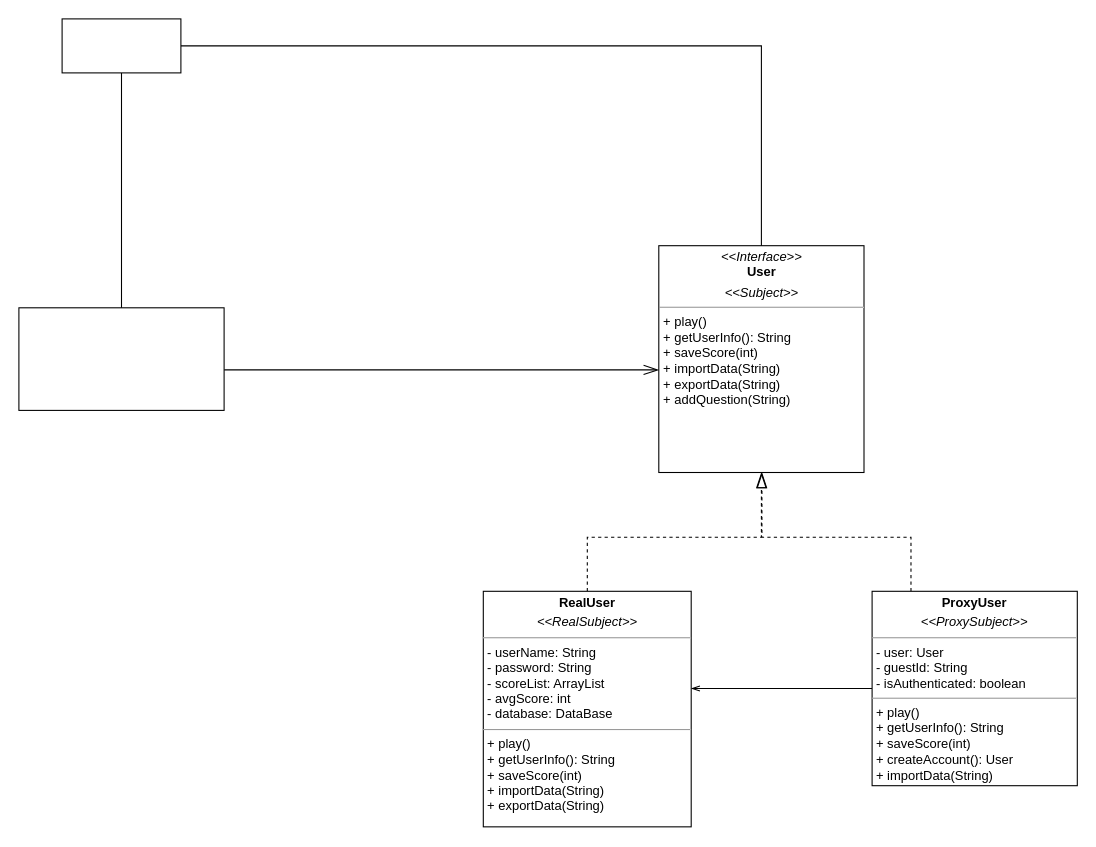
This 1096x847 diagram has some shape labels left out. The centre of each missing label's shape, as x and y in pixels:
Action: the point at 121,45
Login <<Client>> - database: DataBase + login(String, String): the point at 121,358
